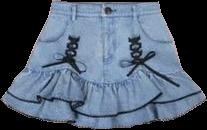Hemline: (0, 98, 206, 128), (7, 89, 202, 116)
Waistline: (25, 65, 182, 84), (49, 12, 161, 17), (53, 1, 159, 5)
